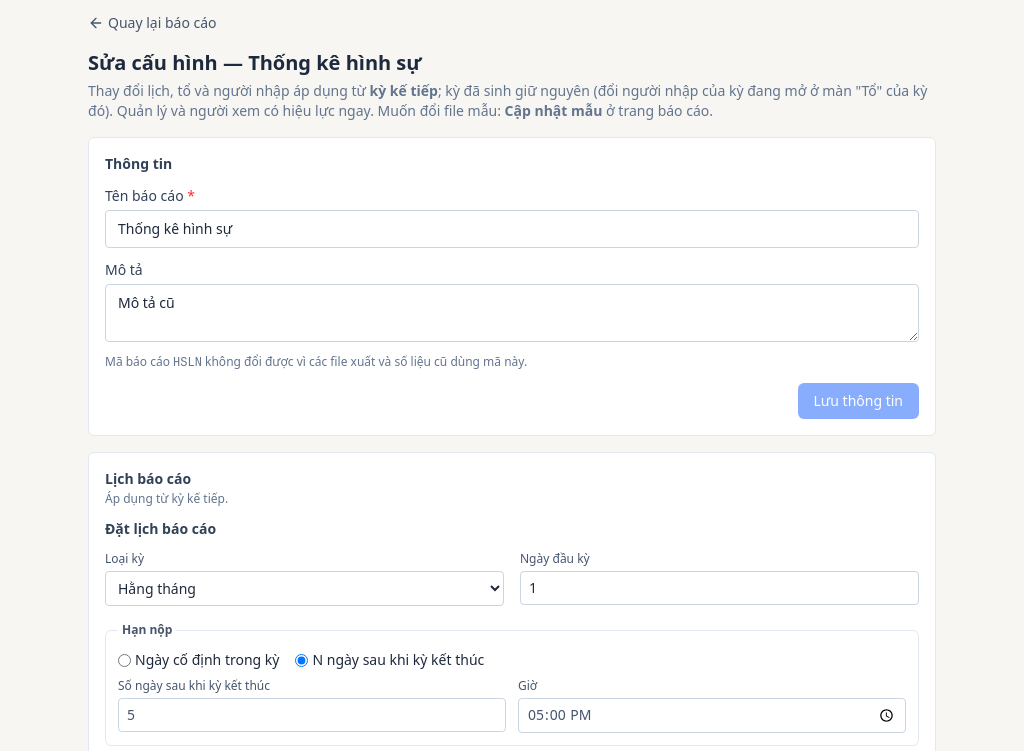
Test: ReportEditPage — "Sửa cấu hình" › reloads schedule and managers from the new revision after a delayed conflict refresh
The image size is (1024, 751).
Replace the text in the field with test id "edit-name" with "Tên chưa lưu": (512, 229) [105,210,919,248]
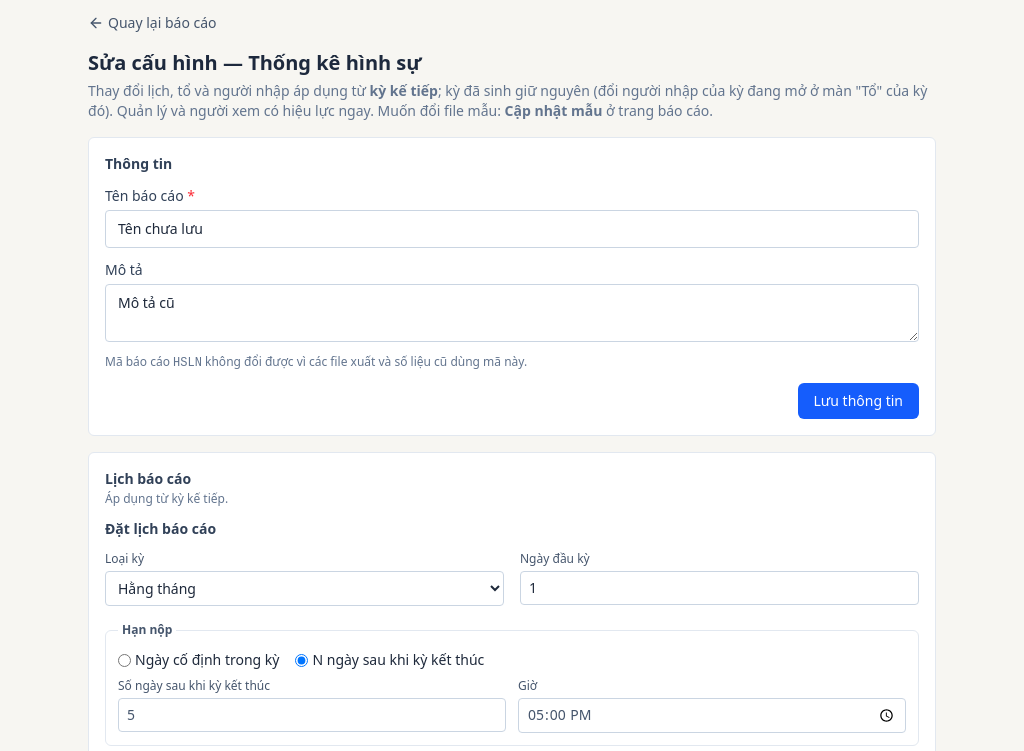
Replace the text in the number field with test id "input-days-after-end" with "9": (312, 715) [118,698,506,732]
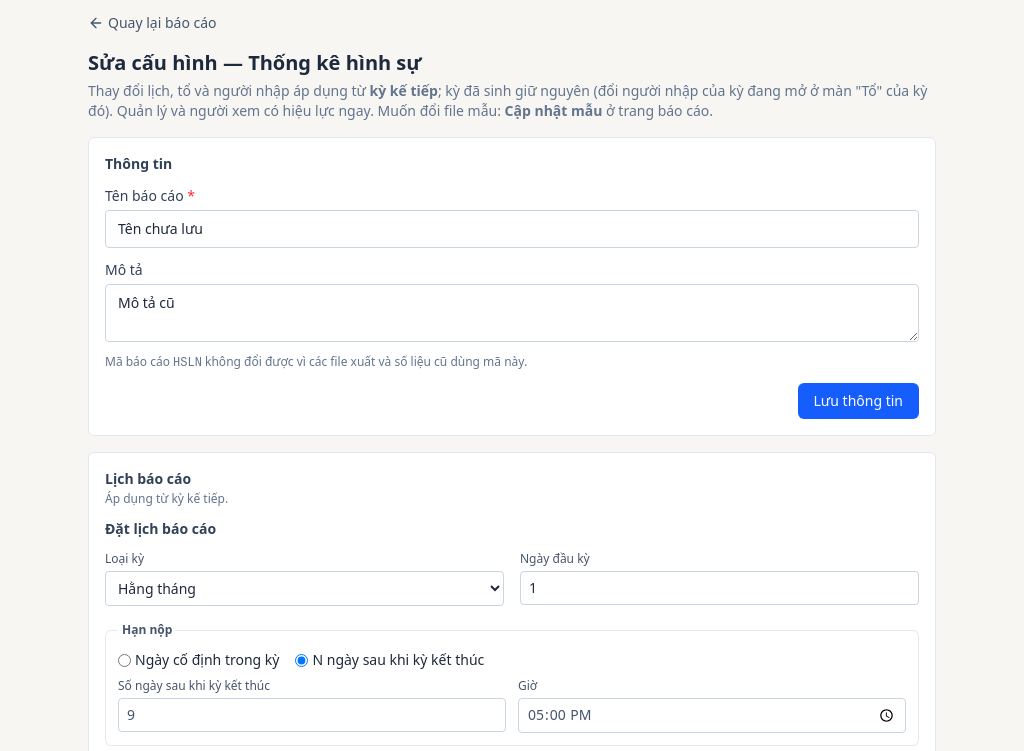
Click the button with test id "btn-save-info": (858, 401) [798,383,919,419]
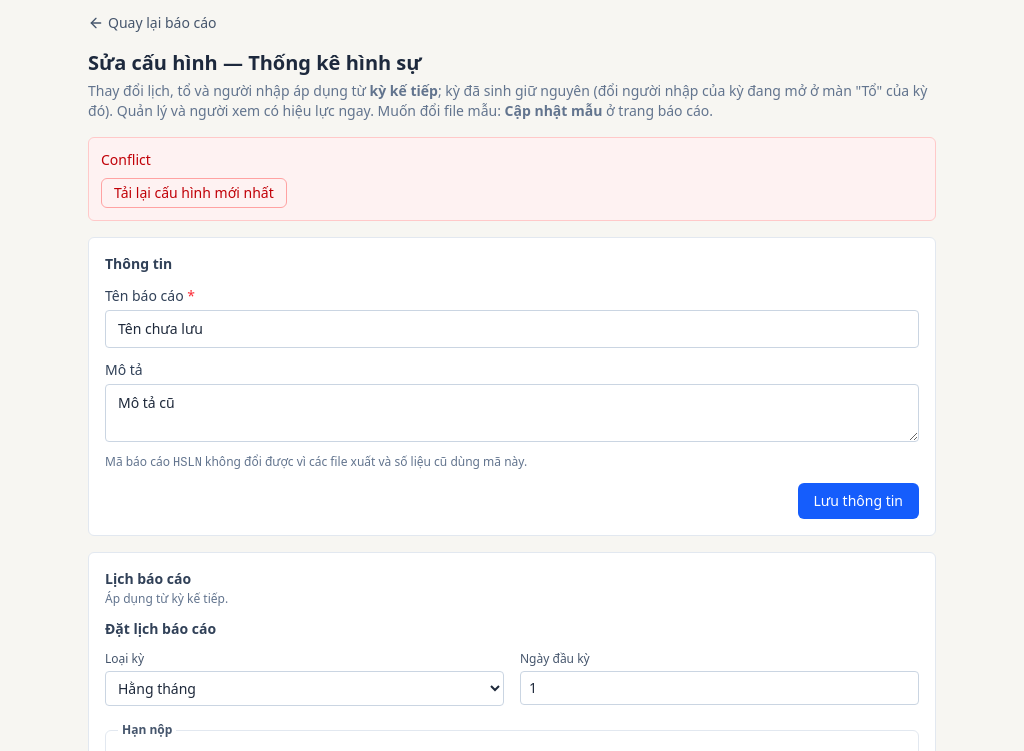
Expected: the button with test id "btn-reload" is shown
Click the button with test id "btn-reload": (194, 193) [101,178,287,208]
(page scrolled)
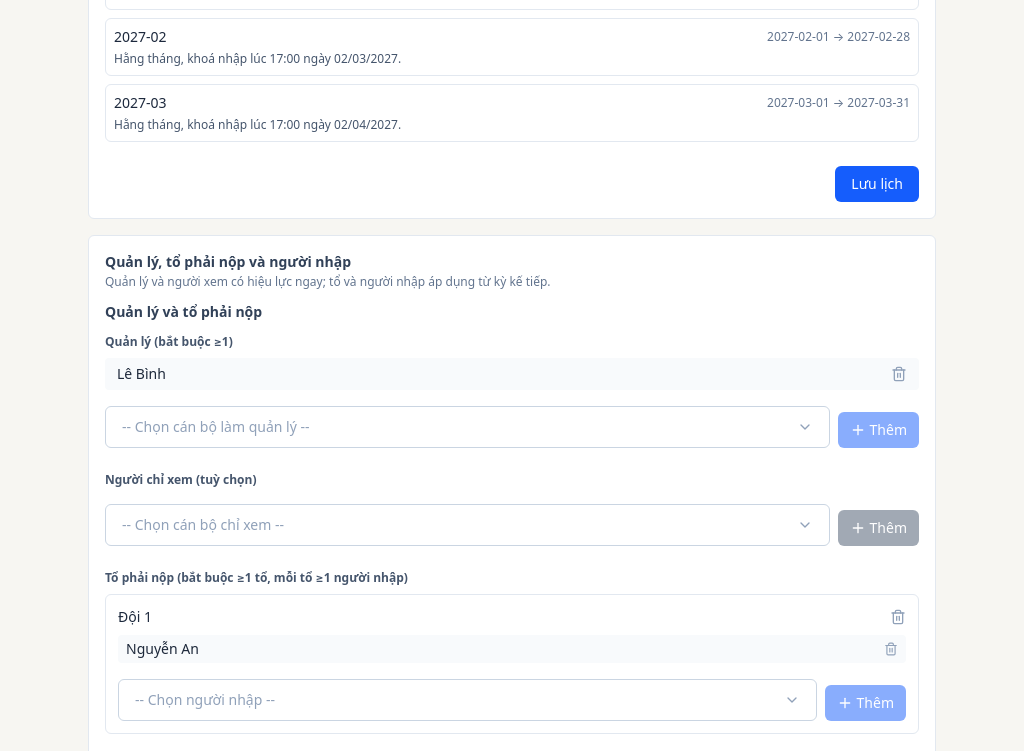
Expected: the list with test id "manager-list" does not show "Nguyễn An", [105,358,919,390]
Expected: the list with test id "manager-list" reads "Lê Bình", [117,364,166,383]
